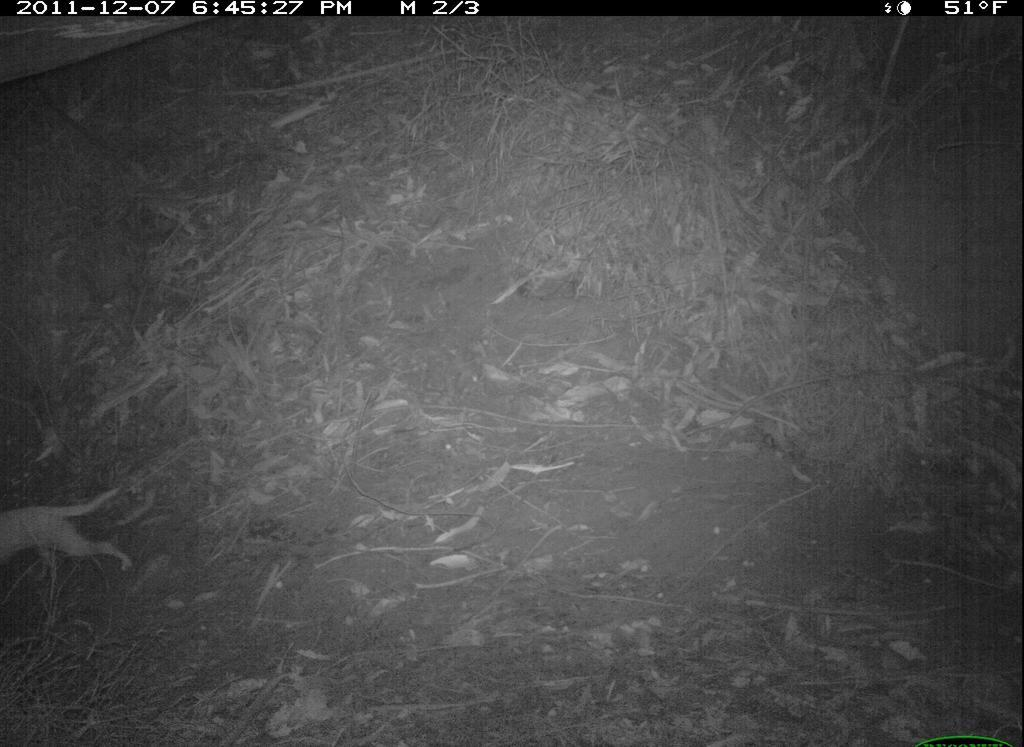dog: (1, 474, 137, 578)
